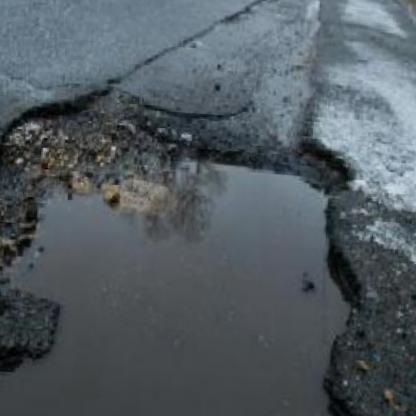pothole: (0, 65, 390, 416)
